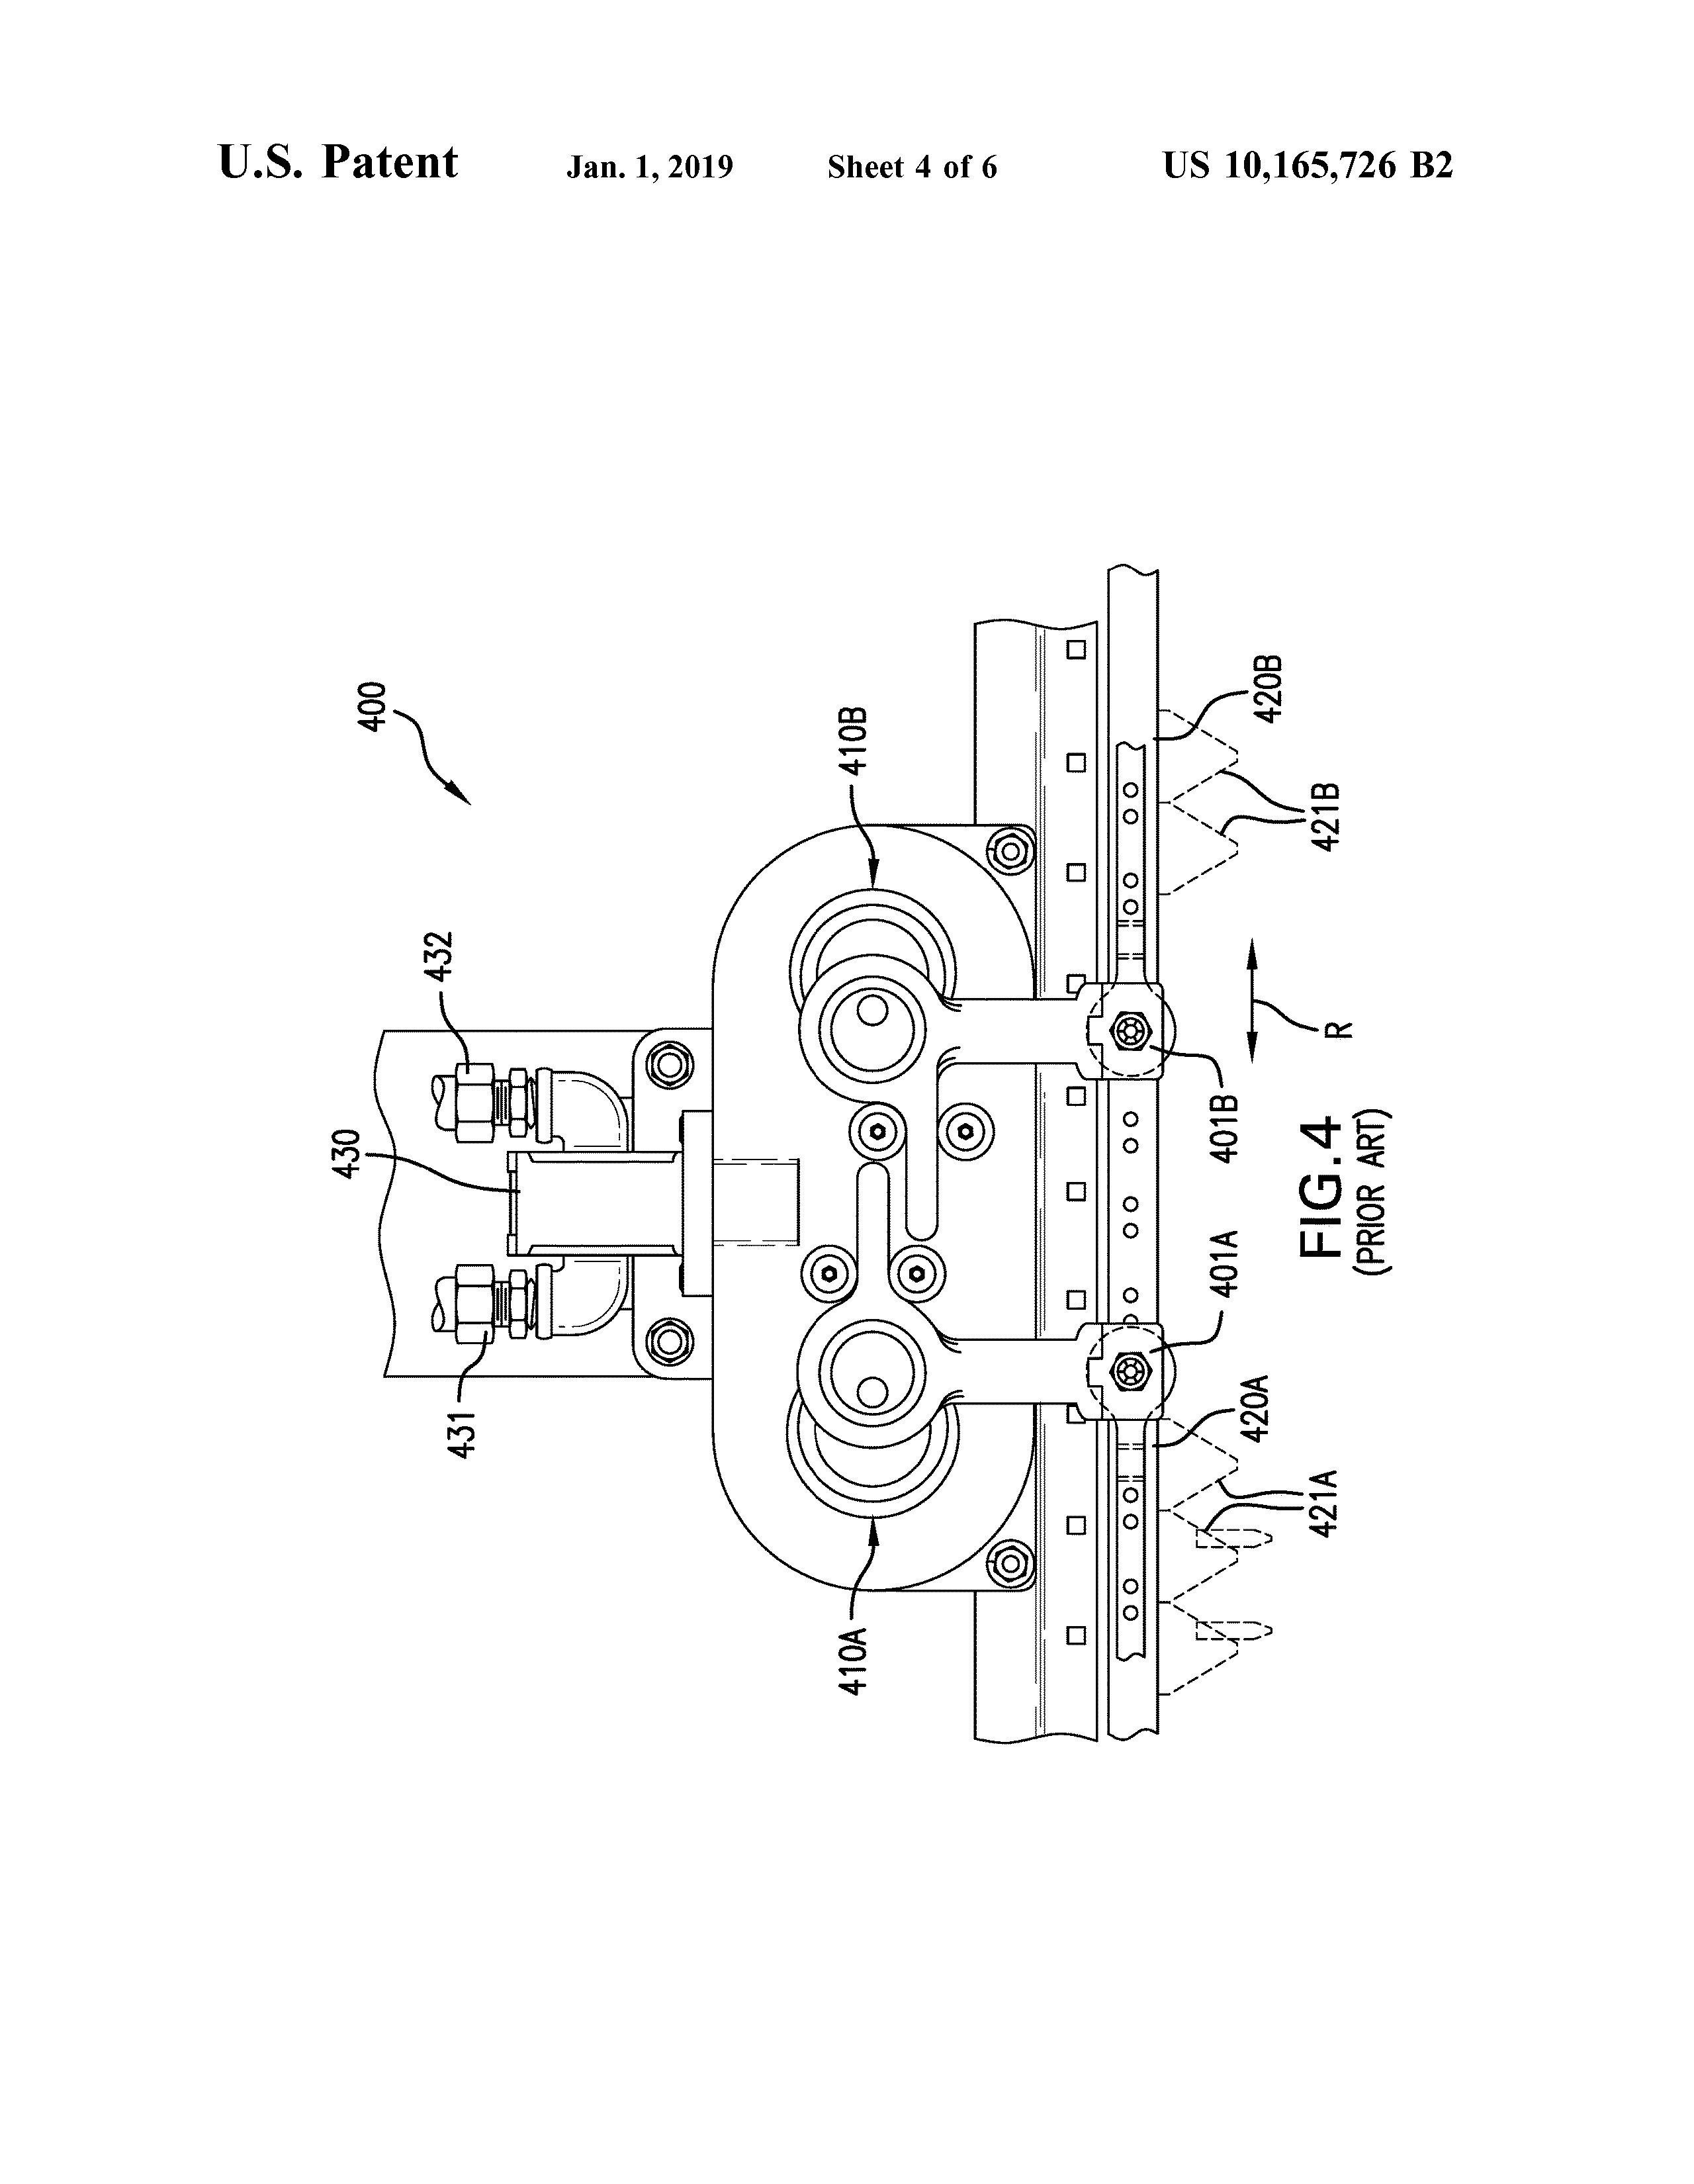patent image: (307, 512, 1458, 1824)
